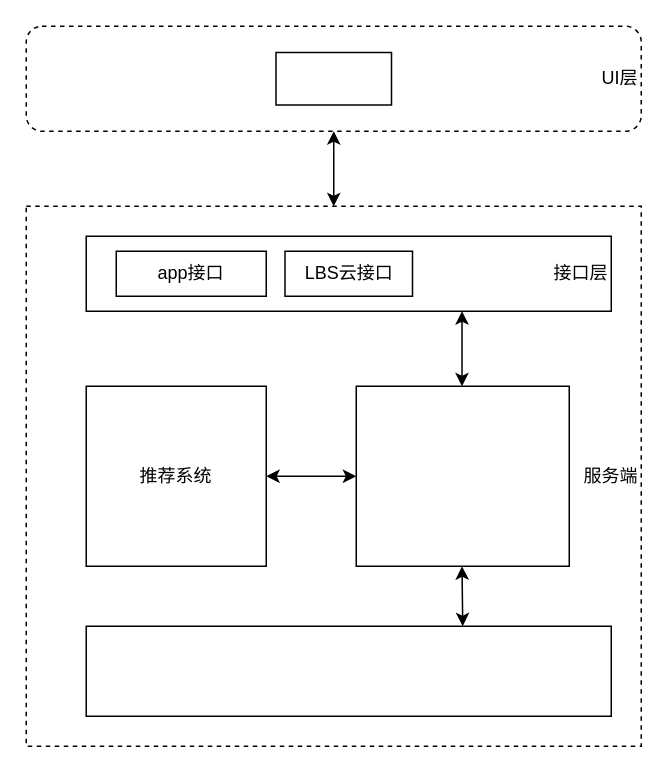
Image size: 668x773. Some labels were removed from this diagram. Here are the shapes that lost their labels. From the top down, the centre of each, then its label:
pixel 333 78: app
pixel 462 475: 后台逻辑层
pixel 348 670: 数据库持久化层
